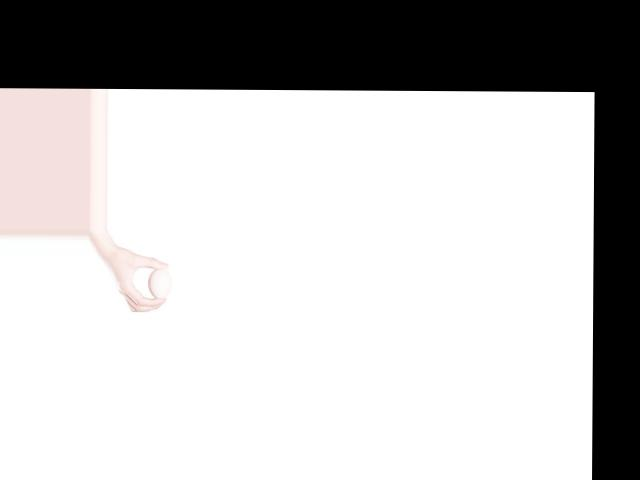egg: (147, 268, 171, 298)
